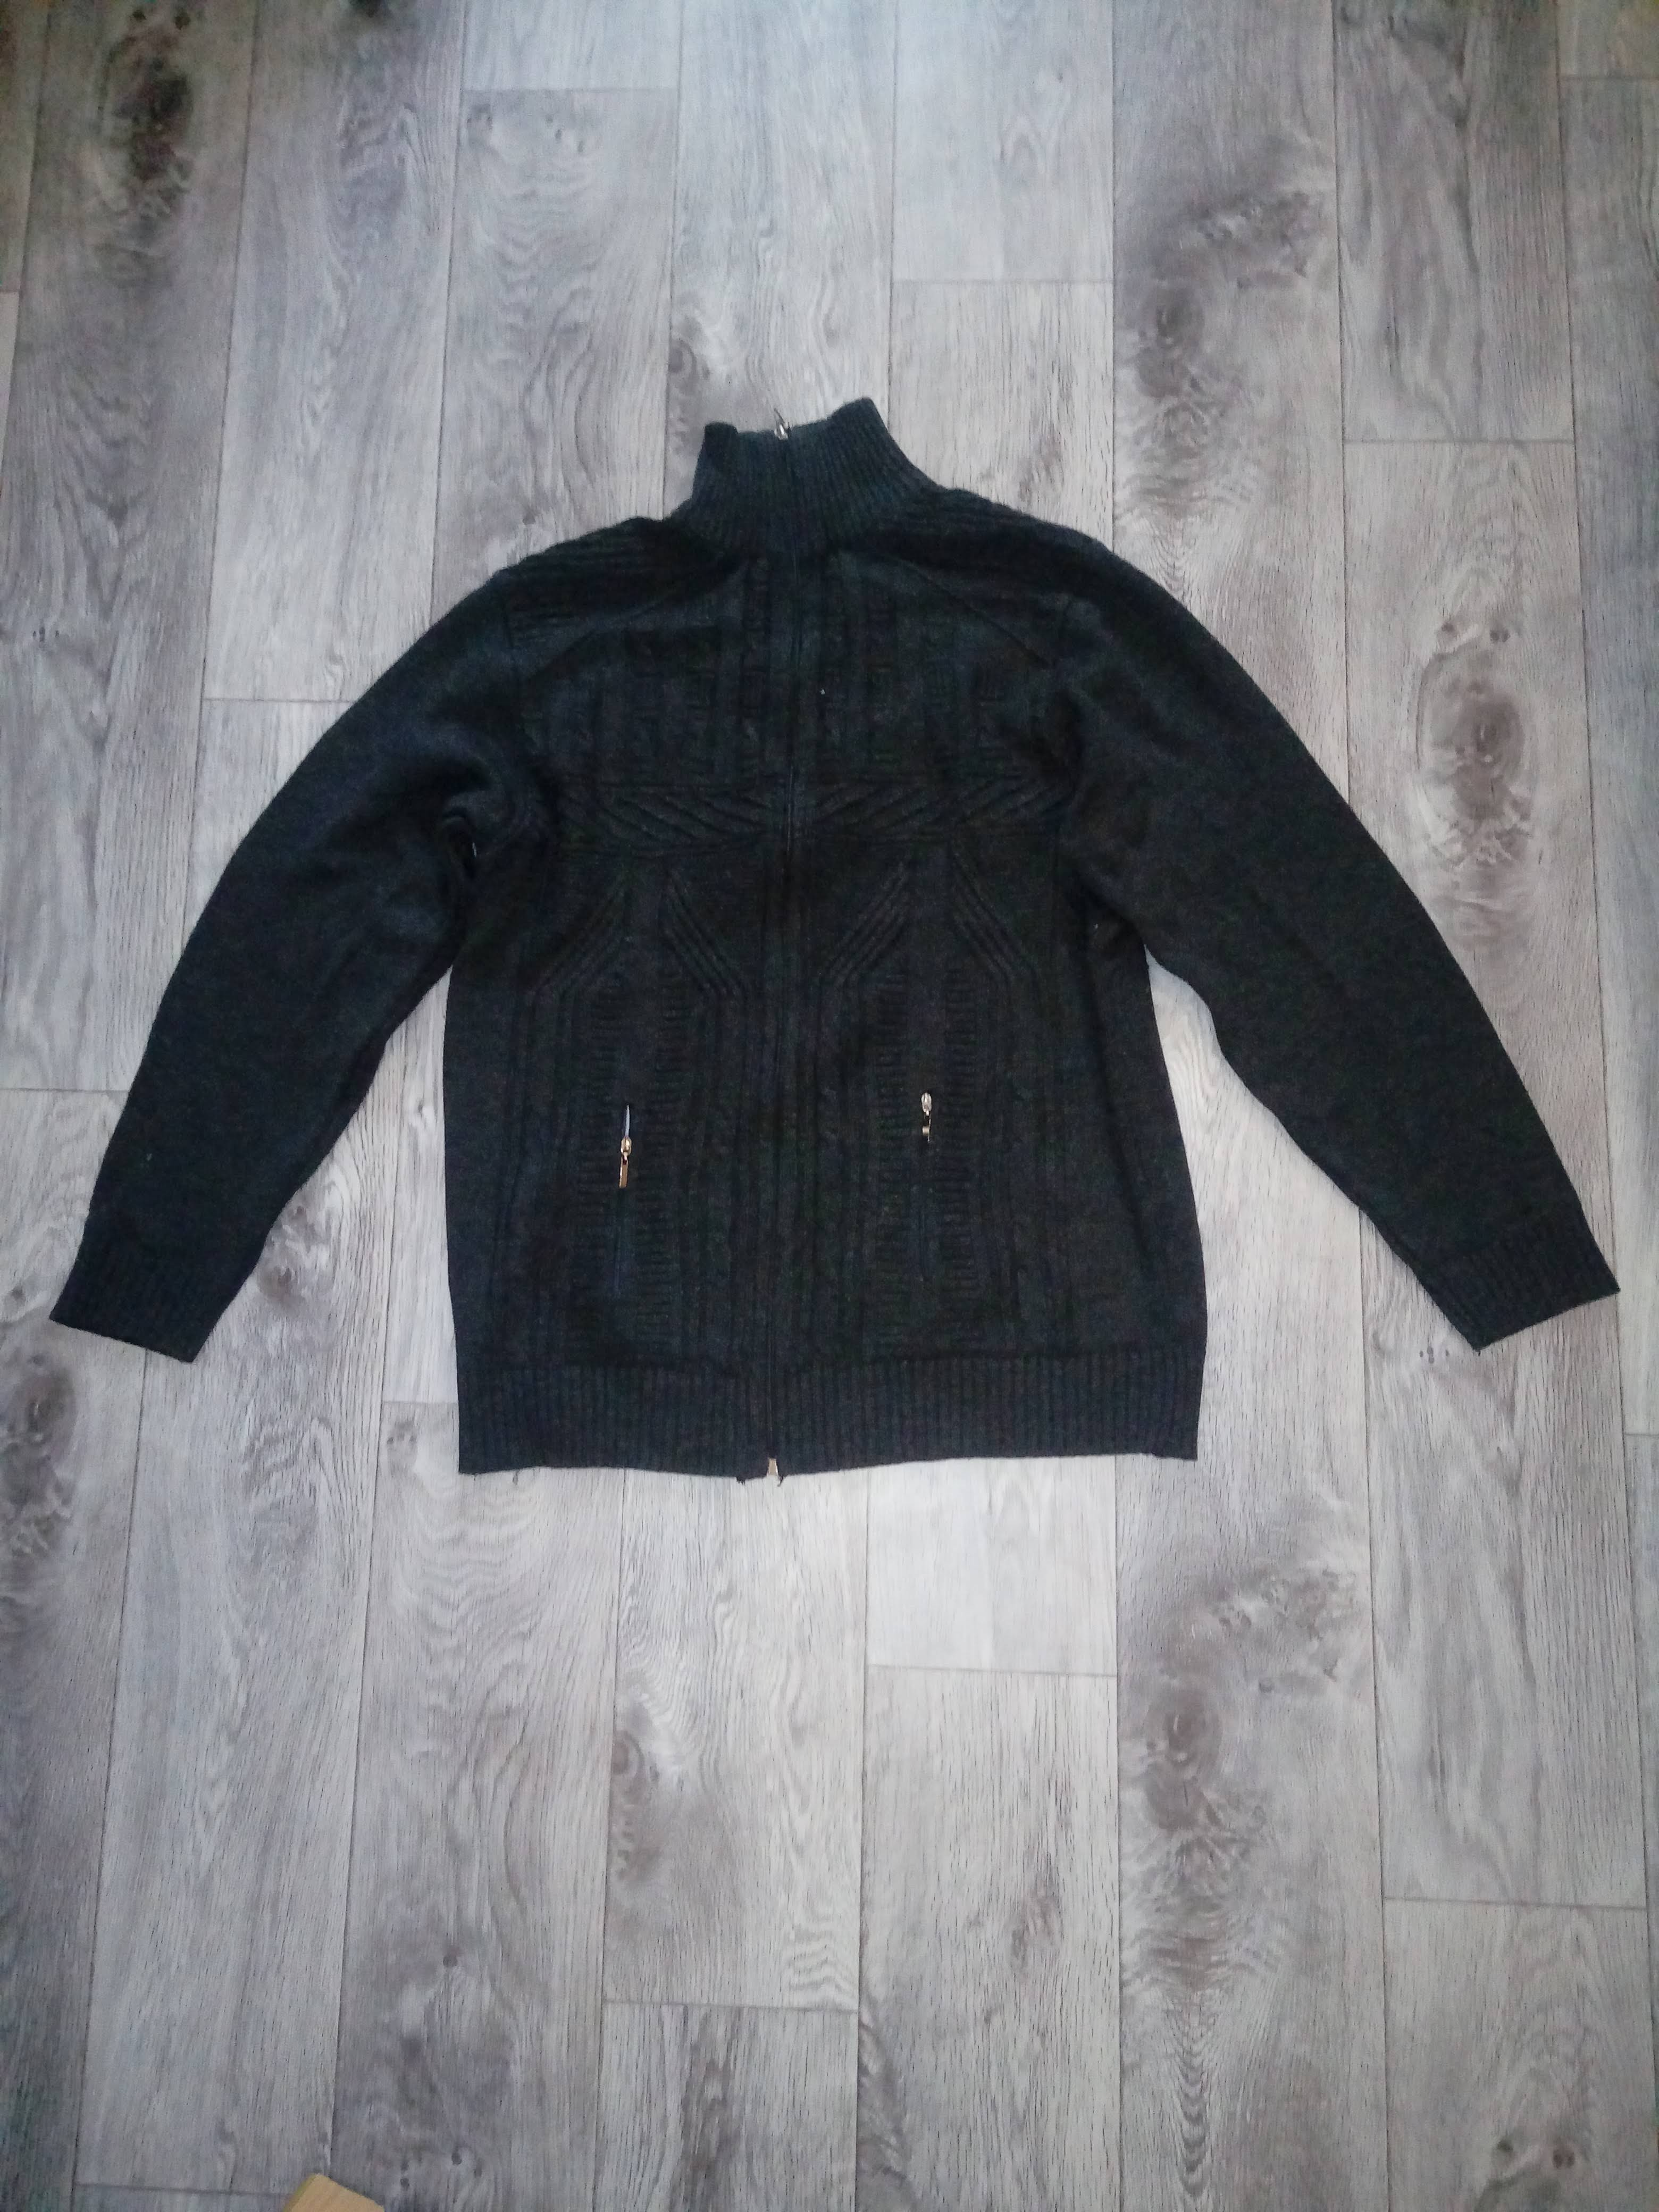clothes: (38, 401, 1595, 1493)
